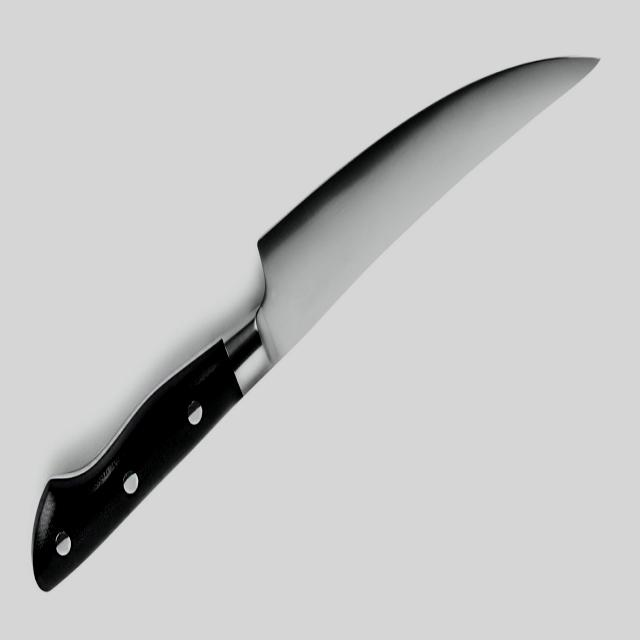Pisau: (20, 28, 614, 599)
